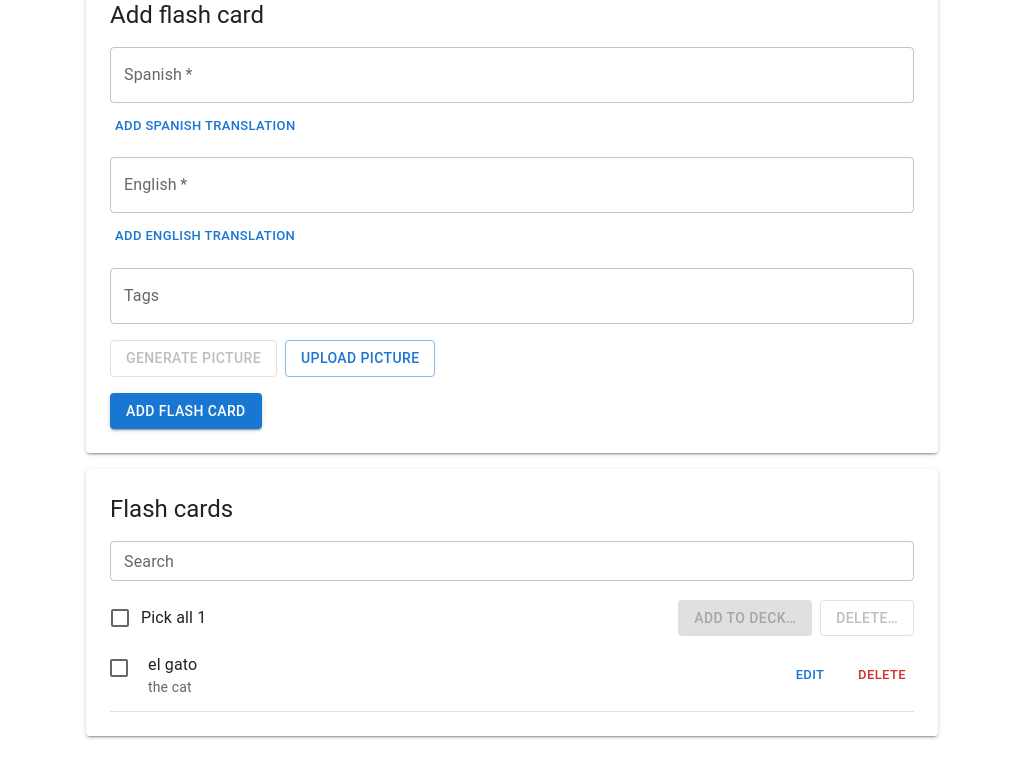
Test: loading the list › collapses each card open and shut as the list changes, keeping it a list of items
(page scrolled)
The form takes the row's place as an item of its own, so the row shrinks away as the form grows.
Click the button named "Edit \"el gato\"".
click(810, 675)  # box [778,660,842,690]
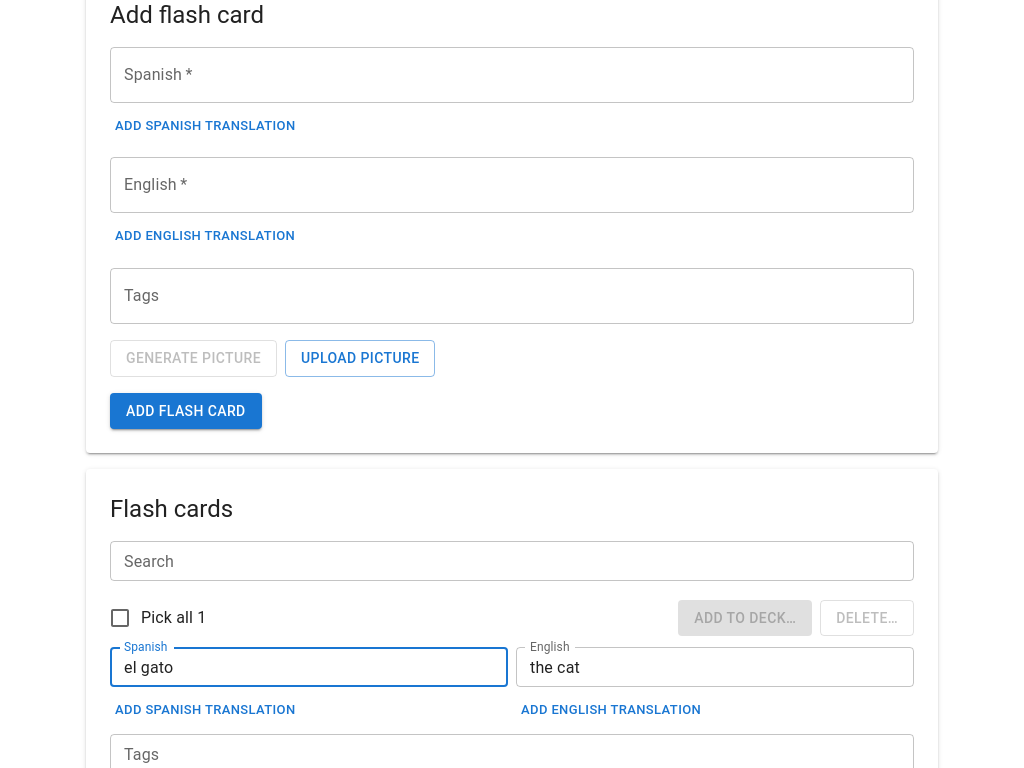
expect the field labelled "Spanish" holds "el gato": met, box [110,647,508,687]
